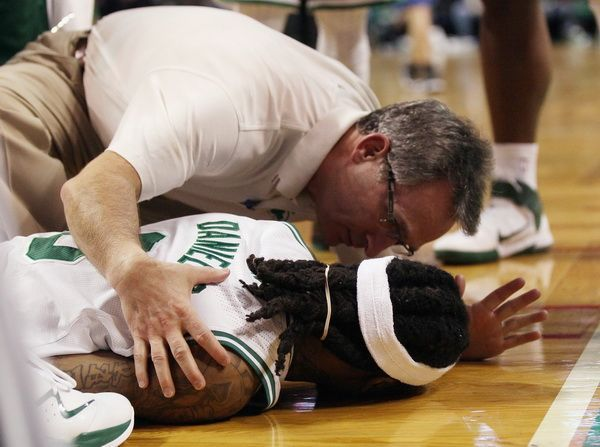fall: (15, 194, 520, 434)
